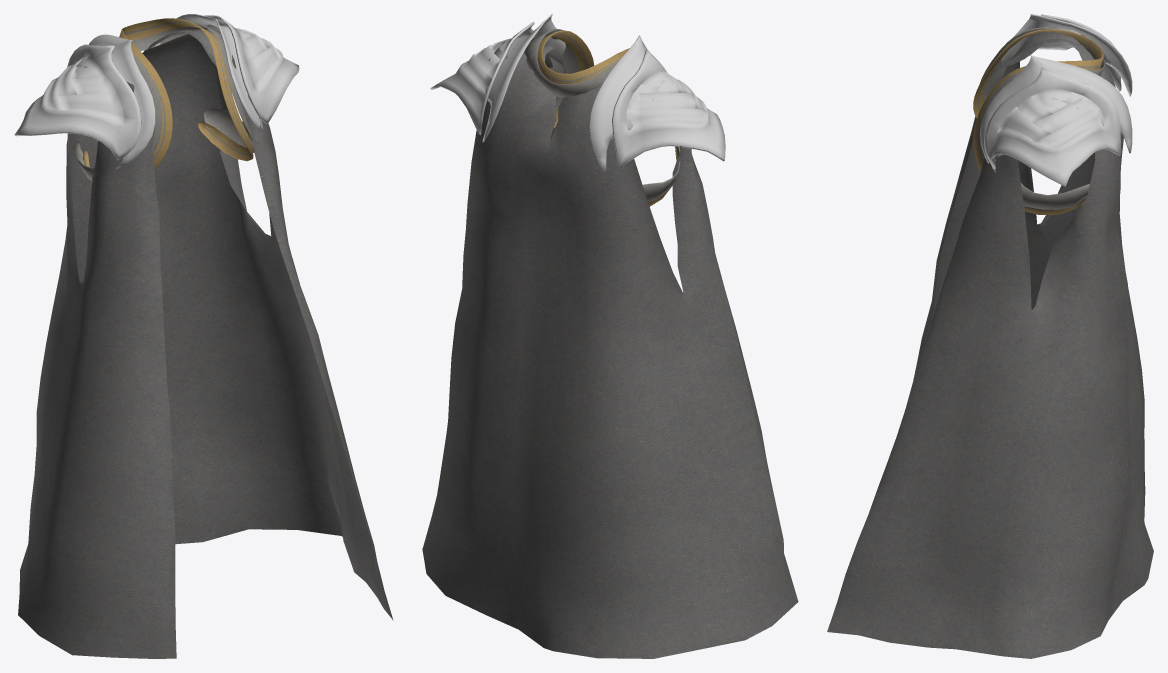
Rendered from rivendell_pauldron_elite_robe_silvergold.fbx.
3 views of the same model, side by side, from view 1: azimuth 30°, elevation 25°; view 2: azimuth 150°, elevation 25°; view 3: azimuth 270°, elevation 25° (orthographic). The views are drawn at different scales.
Visible parts, largest first — view 1: rivendell_pauldron_elite_robe_silvergold.1, rivendell_pauldron_elite_robe_silvergold.2, rivendell_pauldron_elite_robe_silvergold.0; view 2: rivendell_pauldron_elite_robe_silvergold.1, rivendell_pauldron_elite_robe_silvergold.2, rivendell_pauldron_elite_robe_silvergold.0; view 3: rivendell_pauldron_elite_robe_silvergold.1, rivendell_pauldron_elite_robe_silvergold.2, rivendell_pauldron_elite_robe_silvergold.0.
Part boxes in pixels (left/top/right/bottom): rivendell_pauldron_elite_robe_silvergold.1: left=18, top=24, right=393, bottom=658; rivendell_pauldron_elite_robe_silvergold.2: left=14, top=14, right=299, bottom=169; rivendell_pauldron_elite_robe_silvergold.0: left=73, top=18, right=254, bottom=181; rivendell_pauldron_elite_robe_silvergold.1: left=422, top=46, right=798, bottom=658; rivendell_pauldron_elite_robe_silvergold.2: left=430, top=14, right=725, bottom=171; rivendell_pauldron_elite_robe_silvergold.0: left=524, top=29, right=681, bottom=206; rivendell_pauldron_elite_robe_silvergold.1: left=827, top=32, right=1153, bottom=658; rivendell_pauldron_elite_robe_silvergold.2: left=980, top=14, right=1132, bottom=186; rivendell_pauldron_elite_robe_silvergold.0: left=973, top=27, right=1105, bottom=214.
Bounding box in the file's own units: 0.8449 × 0.7529 × 1.41.
